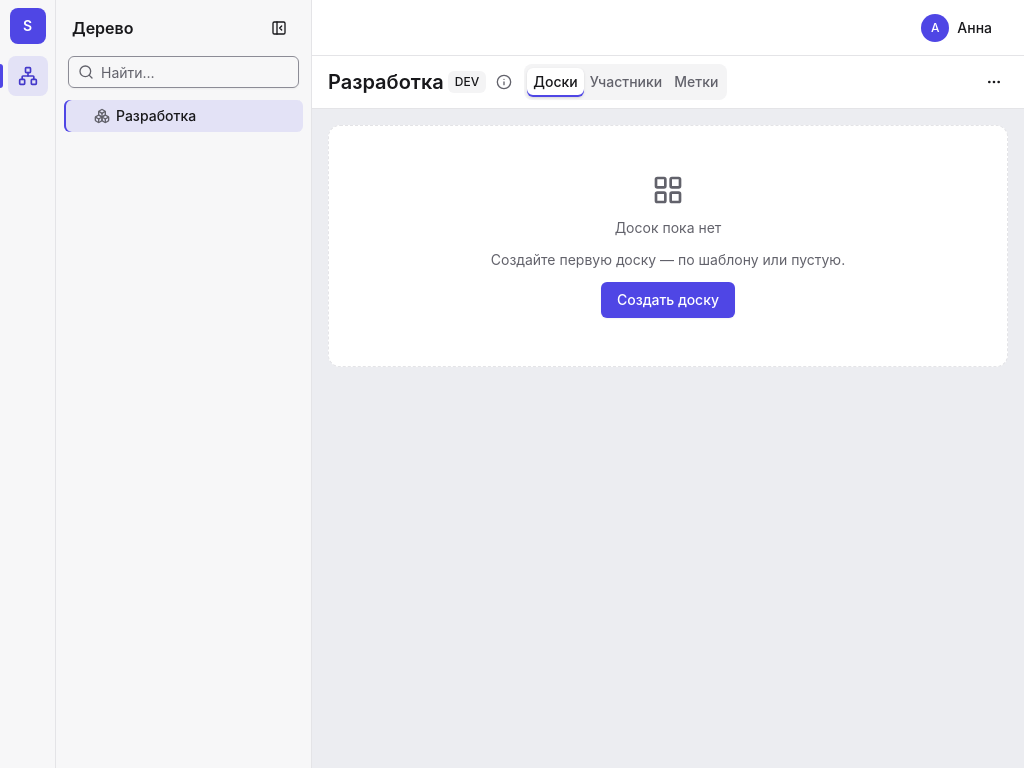
Test: Страница пространства › администратор пространства добавляет участника
Click the tab "Участники". click: [626, 82]
box: 584,68 -> 668,96
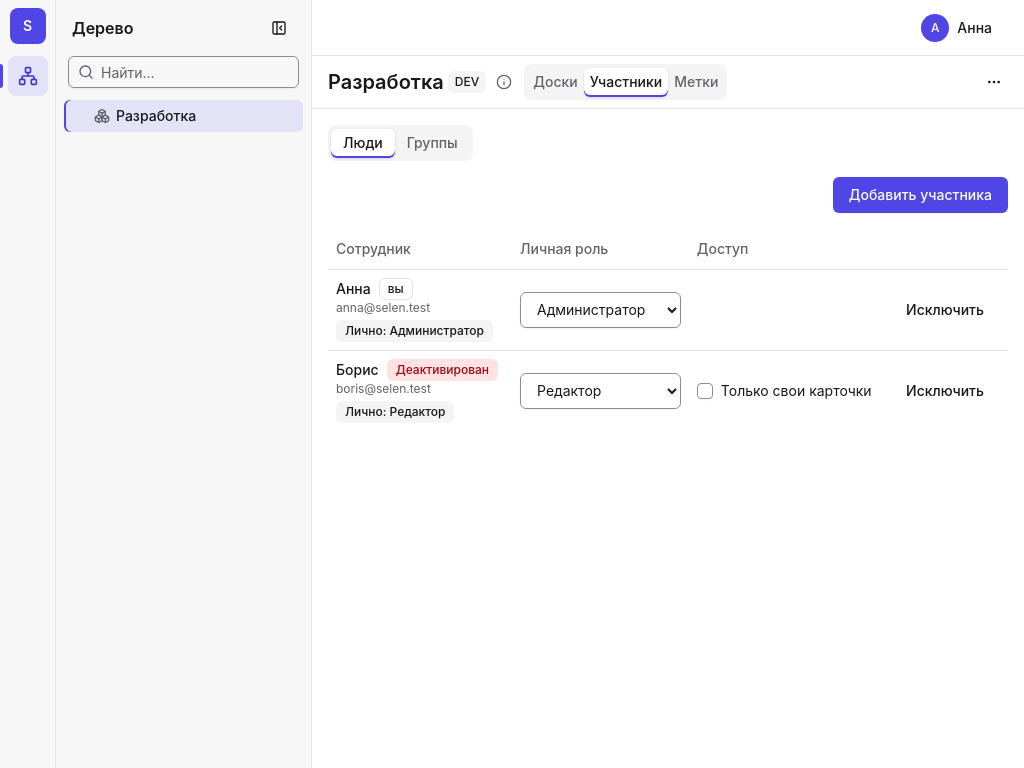
Now the text "Деактивирован" is shown, box 387,358 -> 498,380
Click the button "Добавить участника". click: [920, 195]
box: 833,177 -> 1008,213
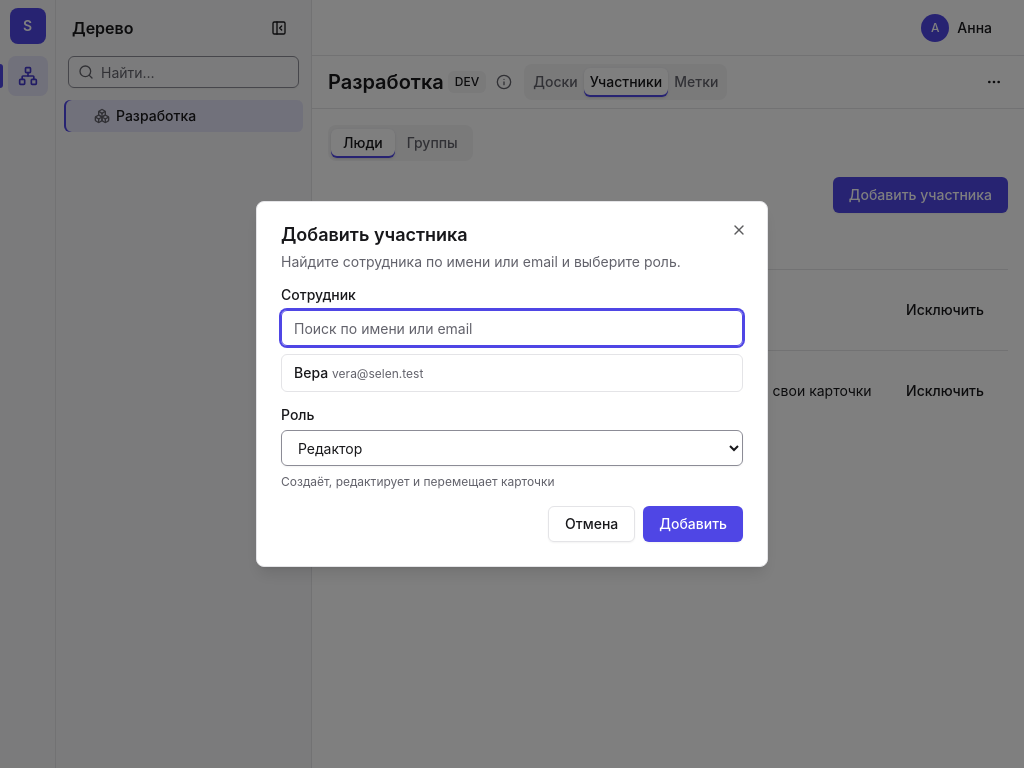
Click the button "Вера vera@selen.test". click: [311, 372]
box: 282,355 -> 742,391
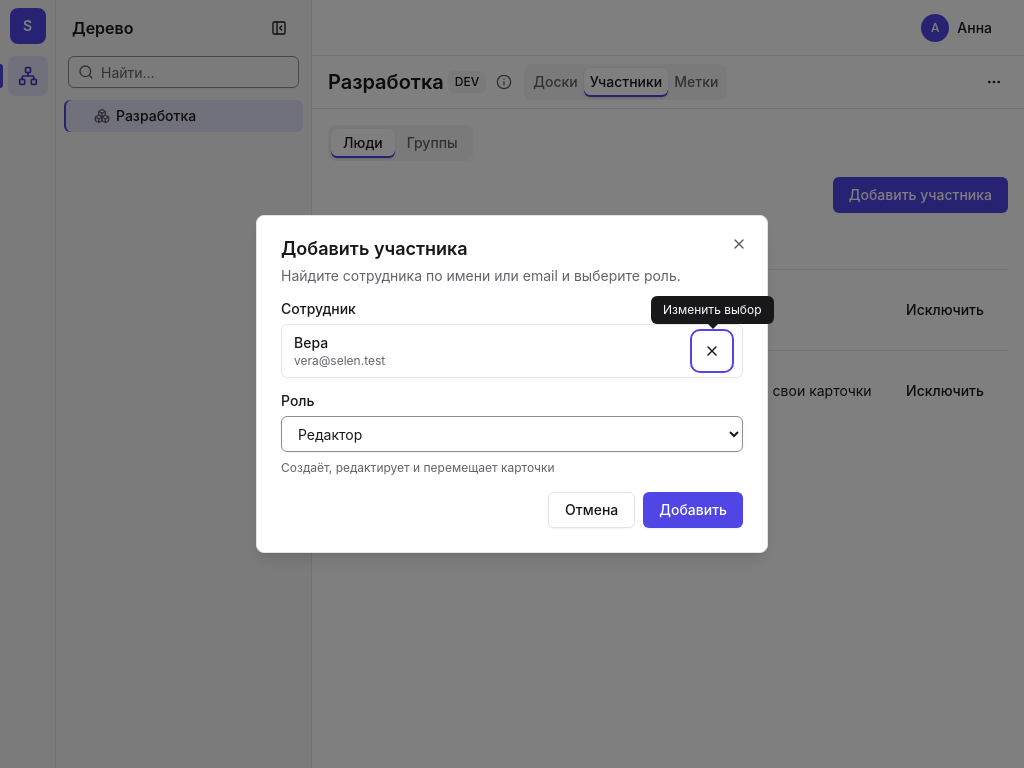
Select "Комментатор" in the dropdown labelled "Роль". click: [512, 434]
box: 281,416 -> 743,452
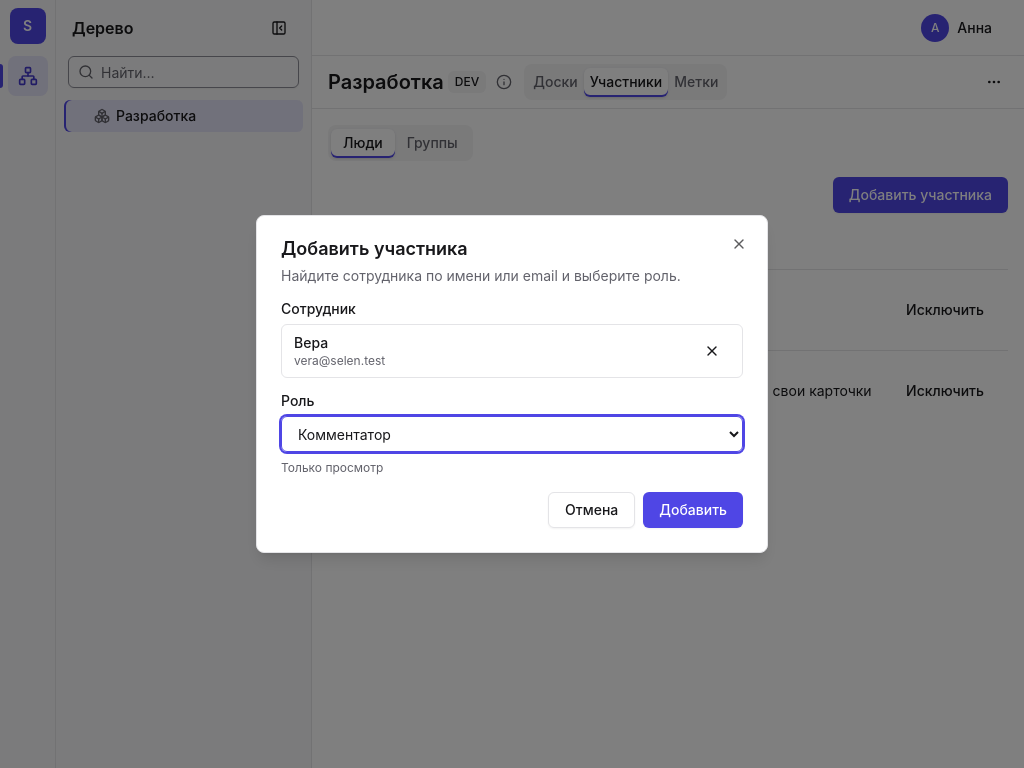
Click the button "Добавить". click: [693, 510]
box: 643,492 -> 743,528
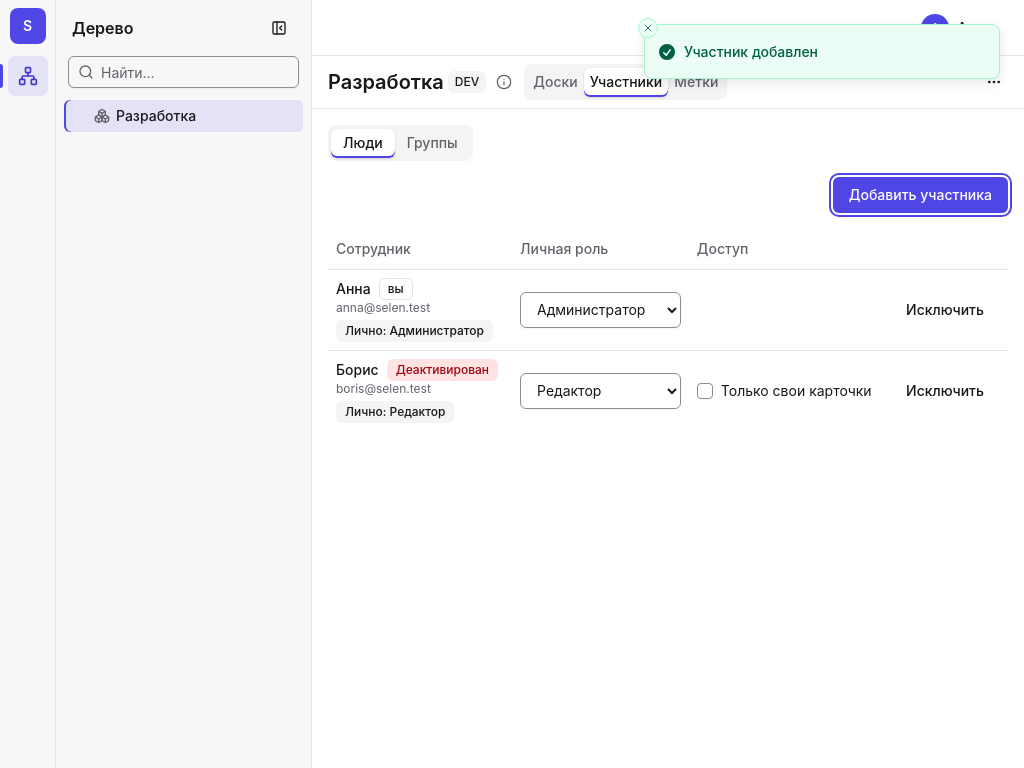
Now the text "Участник добавлен" is shown, box 684,41 -> 818,62
